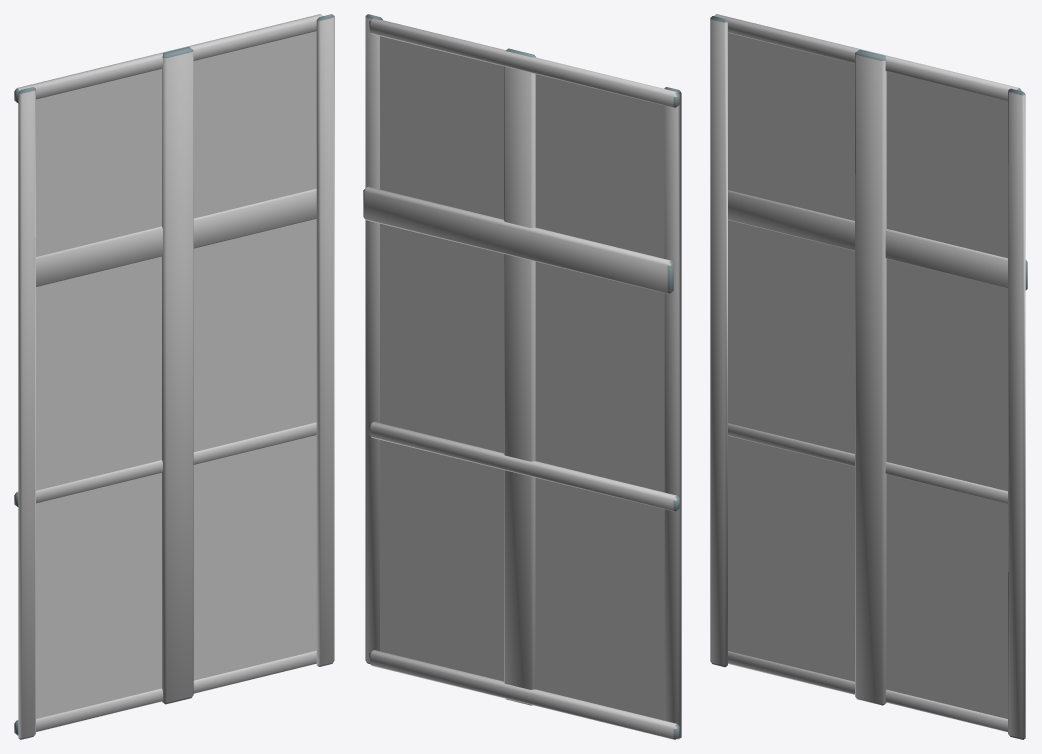
Rendered from Window.fbx.
The picture shows the model from 3 angles, left to right: view 1: azimuth 30°, elevation 25°; view 2: azimuth 150°, elevation 25°; view 3: azimuth 330°, elevation 25°; orthographic projection.
Parts seen in each view (by area): view 1: Window; view 2: Window; view 3: Window.
Part boxes in pixels (x1=…): Window: x1=14, y1=14, x2=334, y2=739; Window: x1=363, y1=14, x2=681, y2=739; Window: x1=710, y1=14, x2=1027, y2=739.
Size of the model in its own units: 0.5298 by 1.04 by 0.0194.
